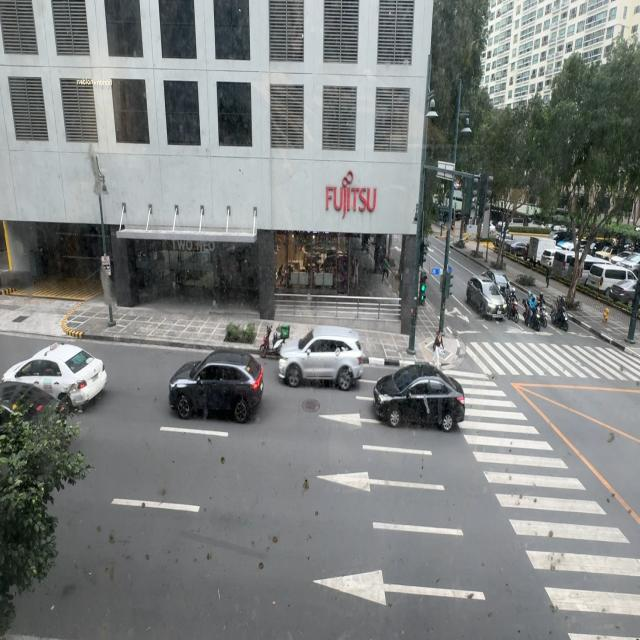crossing: (430, 330, 446, 370)
pedestrain: (546, 262, 551, 287)
